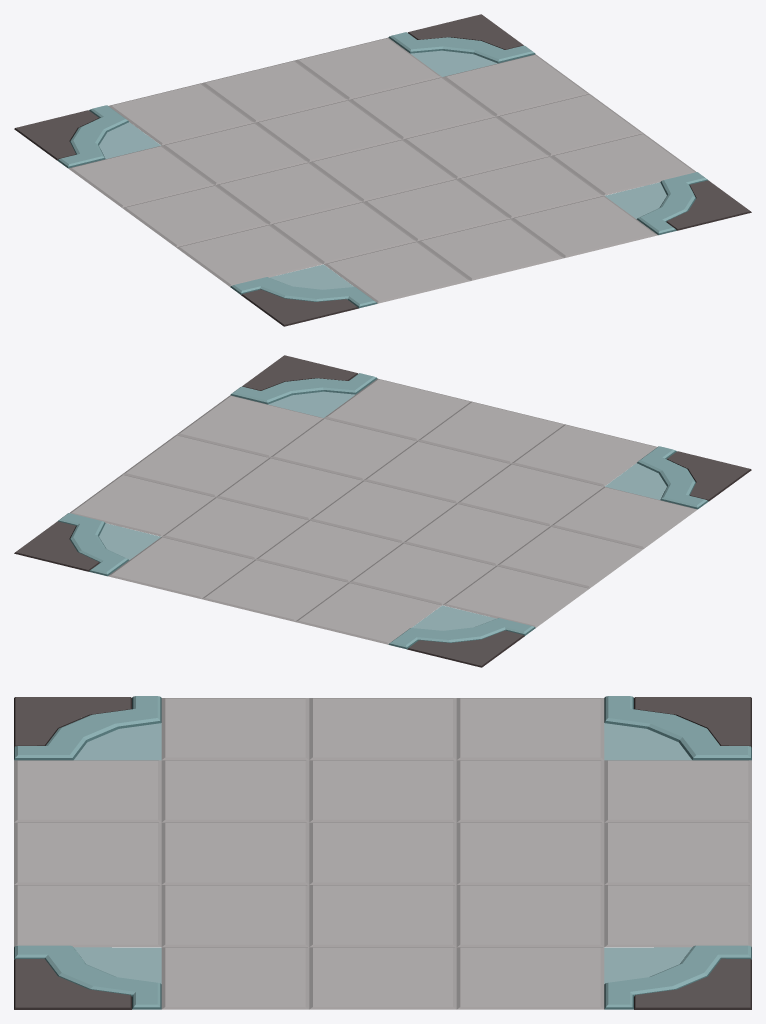
The model's file is Crossroads_00.glb.
3 views of the same model, one above another, from view 1: azimuth 30°, elevation 25°; view 2: azimuth 150°, elevation 25°; view 3: azimuth 270°, elevation 25° (orthographic). The views are drawn at different scales.
Parts seen in each view (by area): view 1: Crossroads_00; view 2: Crossroads_00; view 3: Crossroads_00.
Part boxes in pixels (box(x1,y1,x2,y2)): Crossroads_00: box(14, 14, 751, 326); Crossroads_00: box(14, 355, 751, 667); Crossroads_00: box(14, 696, 751, 1009).
Size of the model in its own units: 16 by 0.0884 by 16.
Materials: 1 (1 with a texture image).
